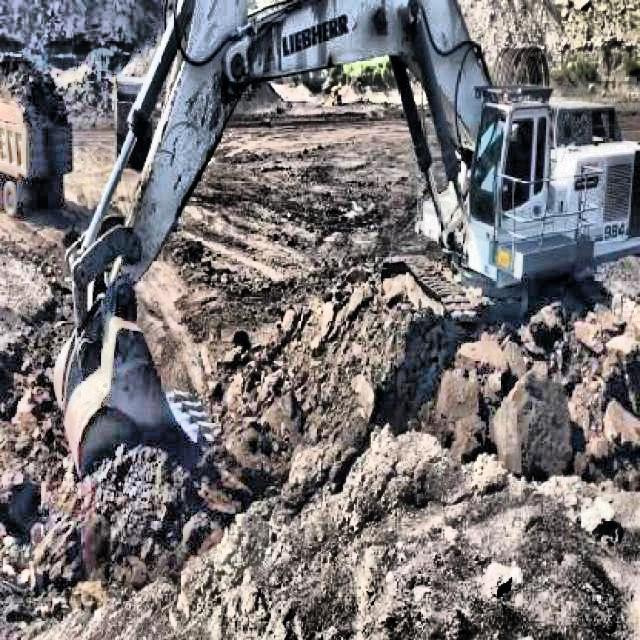dump_truck: (0, 80, 74, 218), (110, 78, 152, 164)
excavator: (51, 0, 640, 505)
